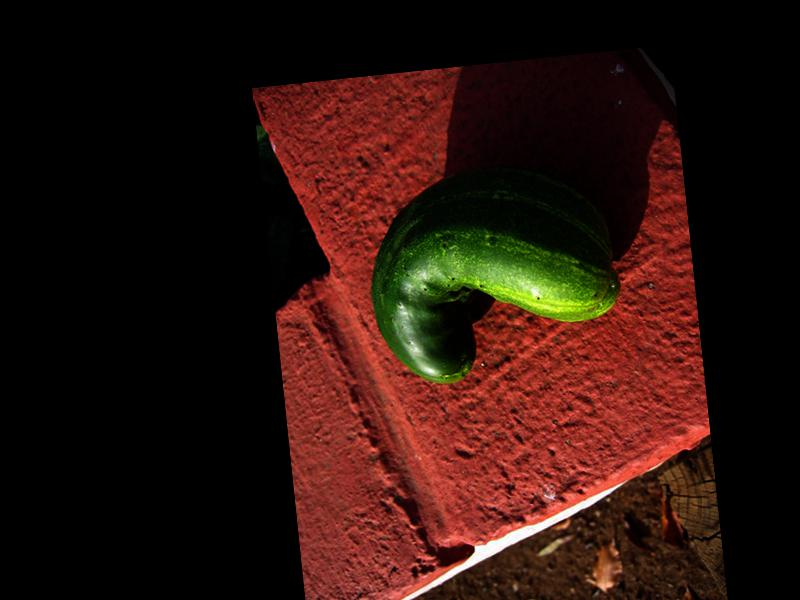Cucumber: (360, 156, 627, 392)
